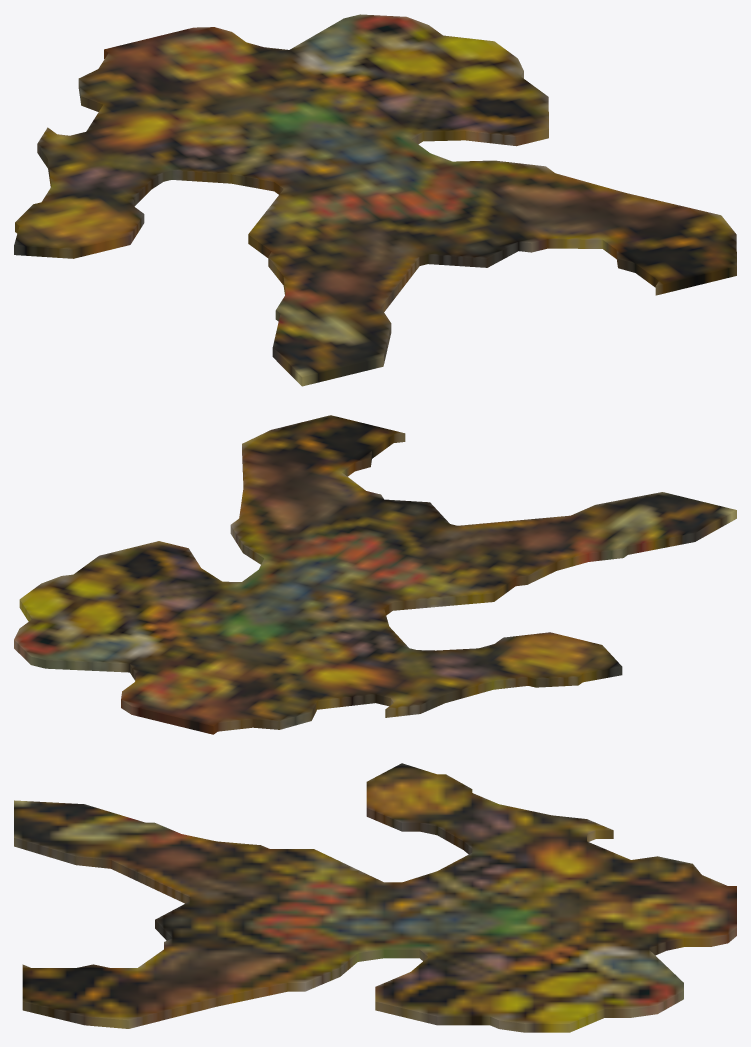
Rendered from ChienBinhSuTu.glb.
3 views of the same model, one above another, from view 1: azimuth 30°, elevation 25°; view 2: azimuth 150°, elevation 25°; view 3: azimuth 270°, elevation 25° (orthographic). The views are drawn at different scales.
Visible parts, largest first — view 1: ChienBinhSuTu; view 2: ChienBinhSuTu; view 3: ChienBinhSuTu.
Part boxes in pixels (x1,y1,x2,y2): ChienBinhSuTu: (14,14,736,386); ChienBinhSuTu: (14,415,736,734); ChienBinhSuTu: (14,763,736,1032).
Bounding box in the file's own units: 0.3186 × 0.005 × 0.3732.
Materials: 1 (1 with a texture image).
